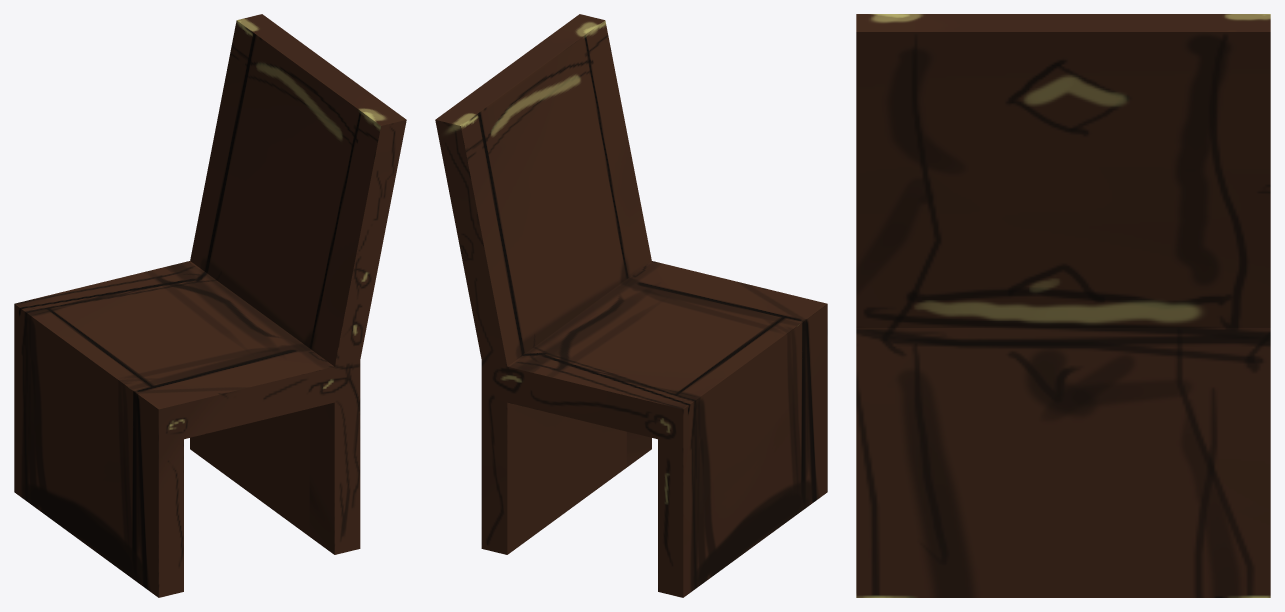
File: chair.dae
3 renders of one model, left to right at view 1: azimuth 30°, elevation 25°; view 2: azimuth 150°, elevation 25°; view 3: azimuth 270°, elevation 25°, orthographic. The views are drawn at different scales.
Visible parts, largest first — view 1: chair_009; view 2: chair_009; view 3: chair_009.
Part boxes in pixels (bbox=[...]): chair_009: bbox=[14, 14, 406, 597]; chair_009: bbox=[435, 14, 827, 597]; chair_009: bbox=[856, 14, 1270, 597].
Size of the model in its own units: 1.29 by 1.3 by 2.07.
Materials: 1 (1 with a texture image).
